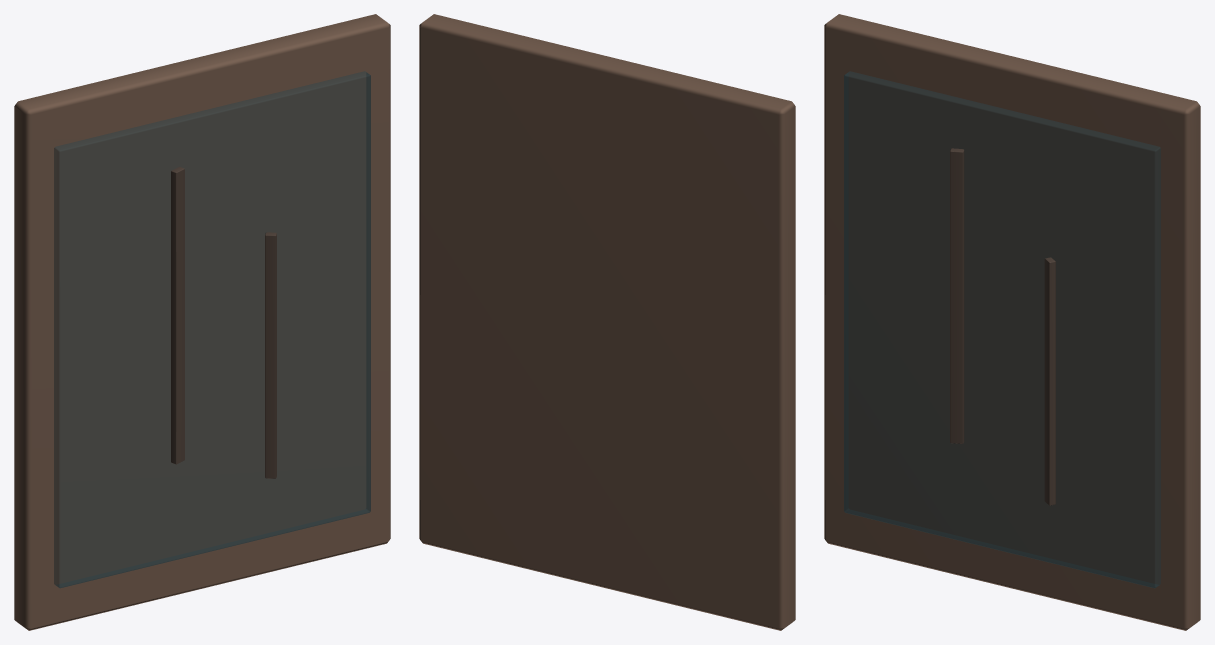
File: prop_broken_mirror_01.glb
3 views of the same model, side by side, from view 1: azimuth 30°, elevation 25°; view 2: azimuth 150°, elevation 25°; view 3: azimuth 330°, elevation 25° (orthographic).
Parts seen in each view (by area): view 1: mirror_frame.001, mirror_glass_dark.001, mirror_crack_01.001, mirror_crack_02.001; view 2: mirror_frame.001; view 3: mirror_frame.001, mirror_glass_dark.001, mirror_crack_01.001, mirror_crack_02.001.
Part boxes in pixels (x1,y1,x2,y2): mirror_frame.001: (14,14,390,630); mirror_glass_dark.001: (54,71,370,588); mirror_crack_01.001: (171,166,184,464); mirror_crack_02.001: (265,232,276,478); mirror_frame.001: (419,14,795,630); mirror_frame.001: (824,14,1200,630); mirror_glass_dark.001: (844,71,1160,588); mirror_crack_01.001: (950,148,964,443); mirror_crack_02.001: (1044,257,1055,505).
Bounding box in the file's own units: 0.55 × 0.75 × 0.0678.
